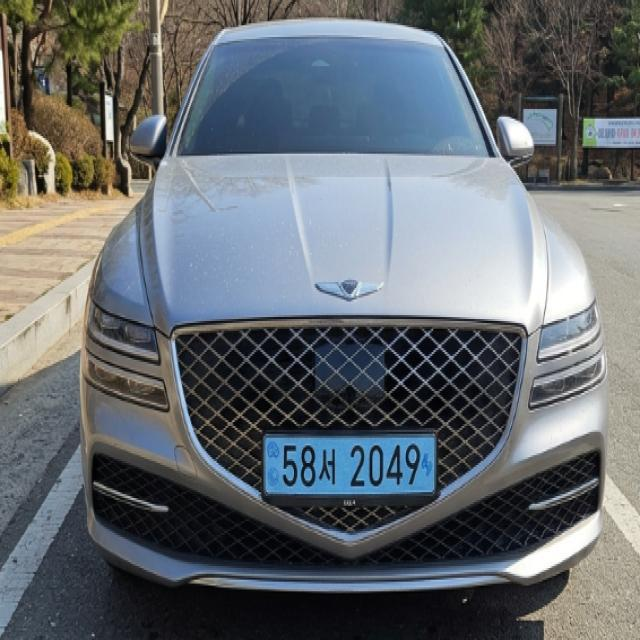car: (246, 400, 455, 534)
carev: (418, 436, 438, 496), (263, 438, 282, 498)
